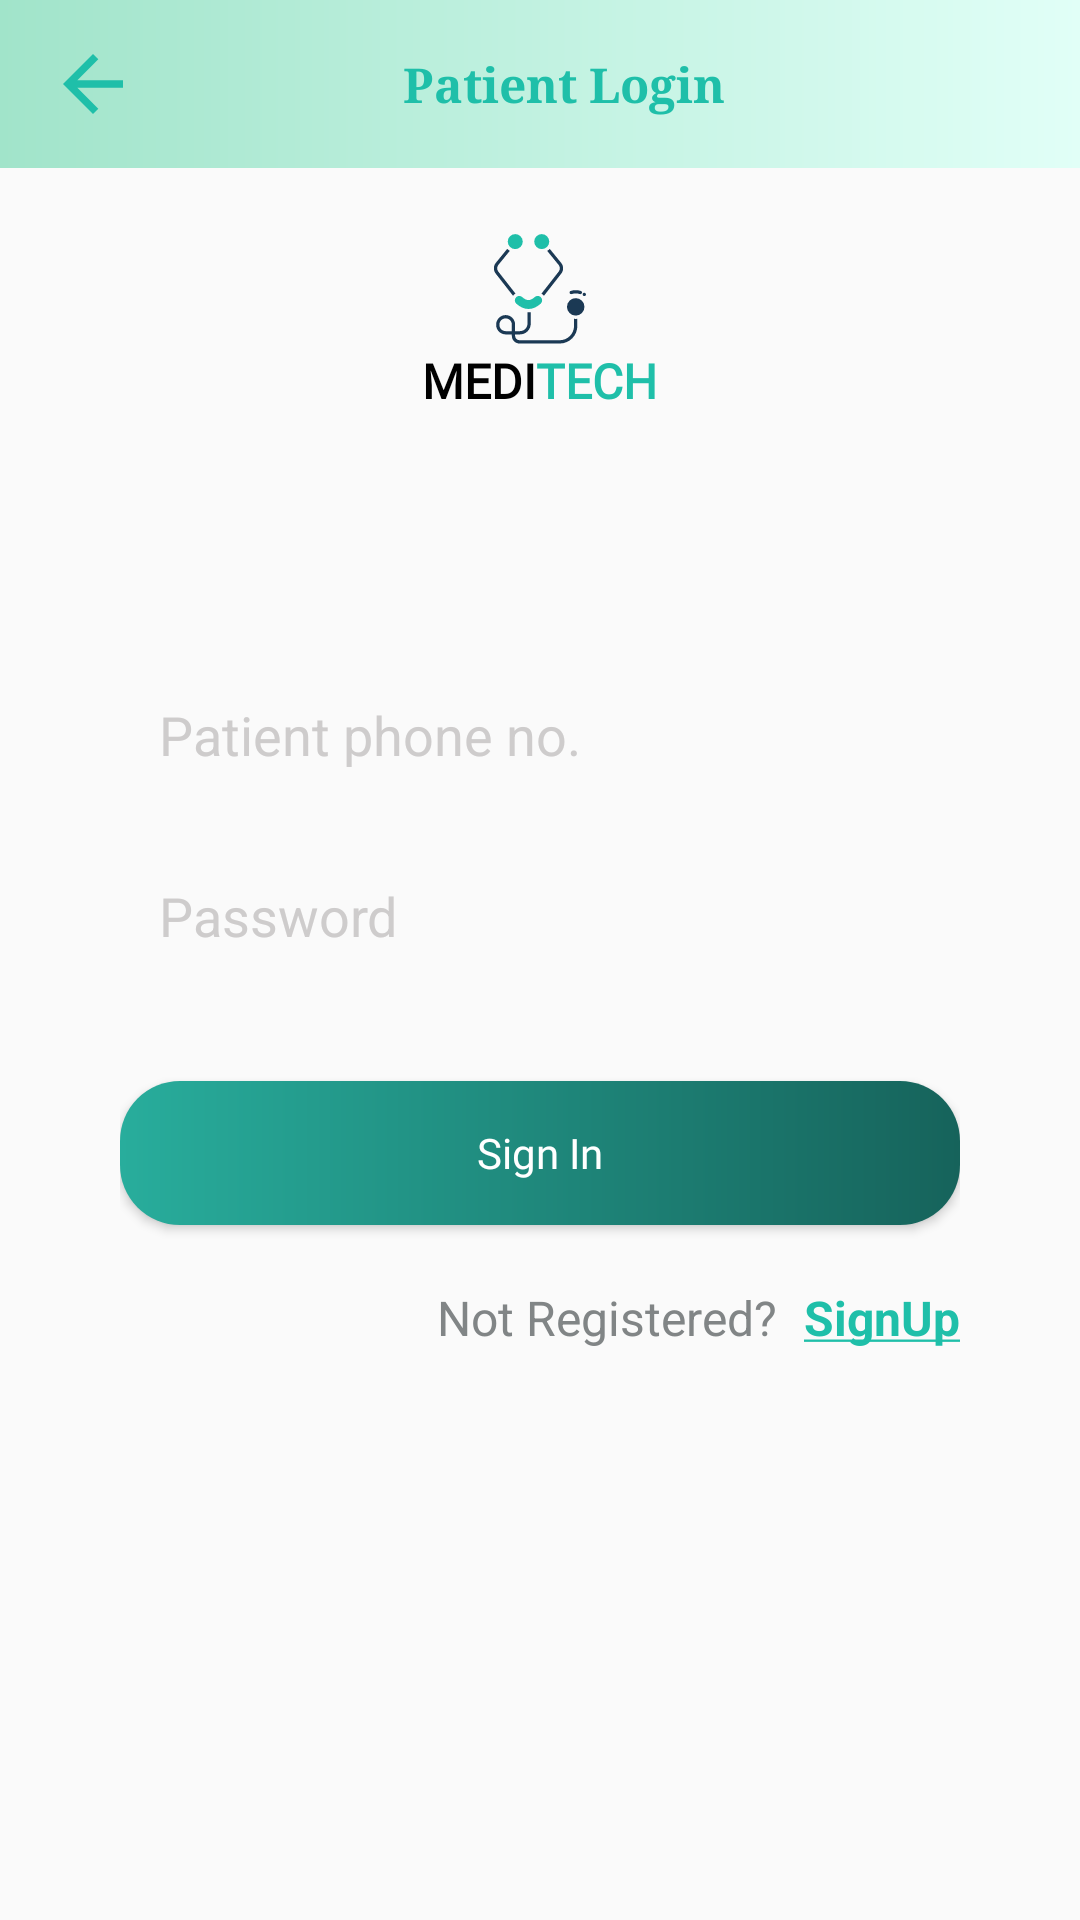

Icons on this 1080 × 1920 Android screen, each with the point to tap as point (x, y):
back arrow: point (93, 84)
